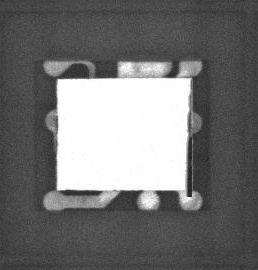DIE_BROKEN: (182, 96, 194, 199)
